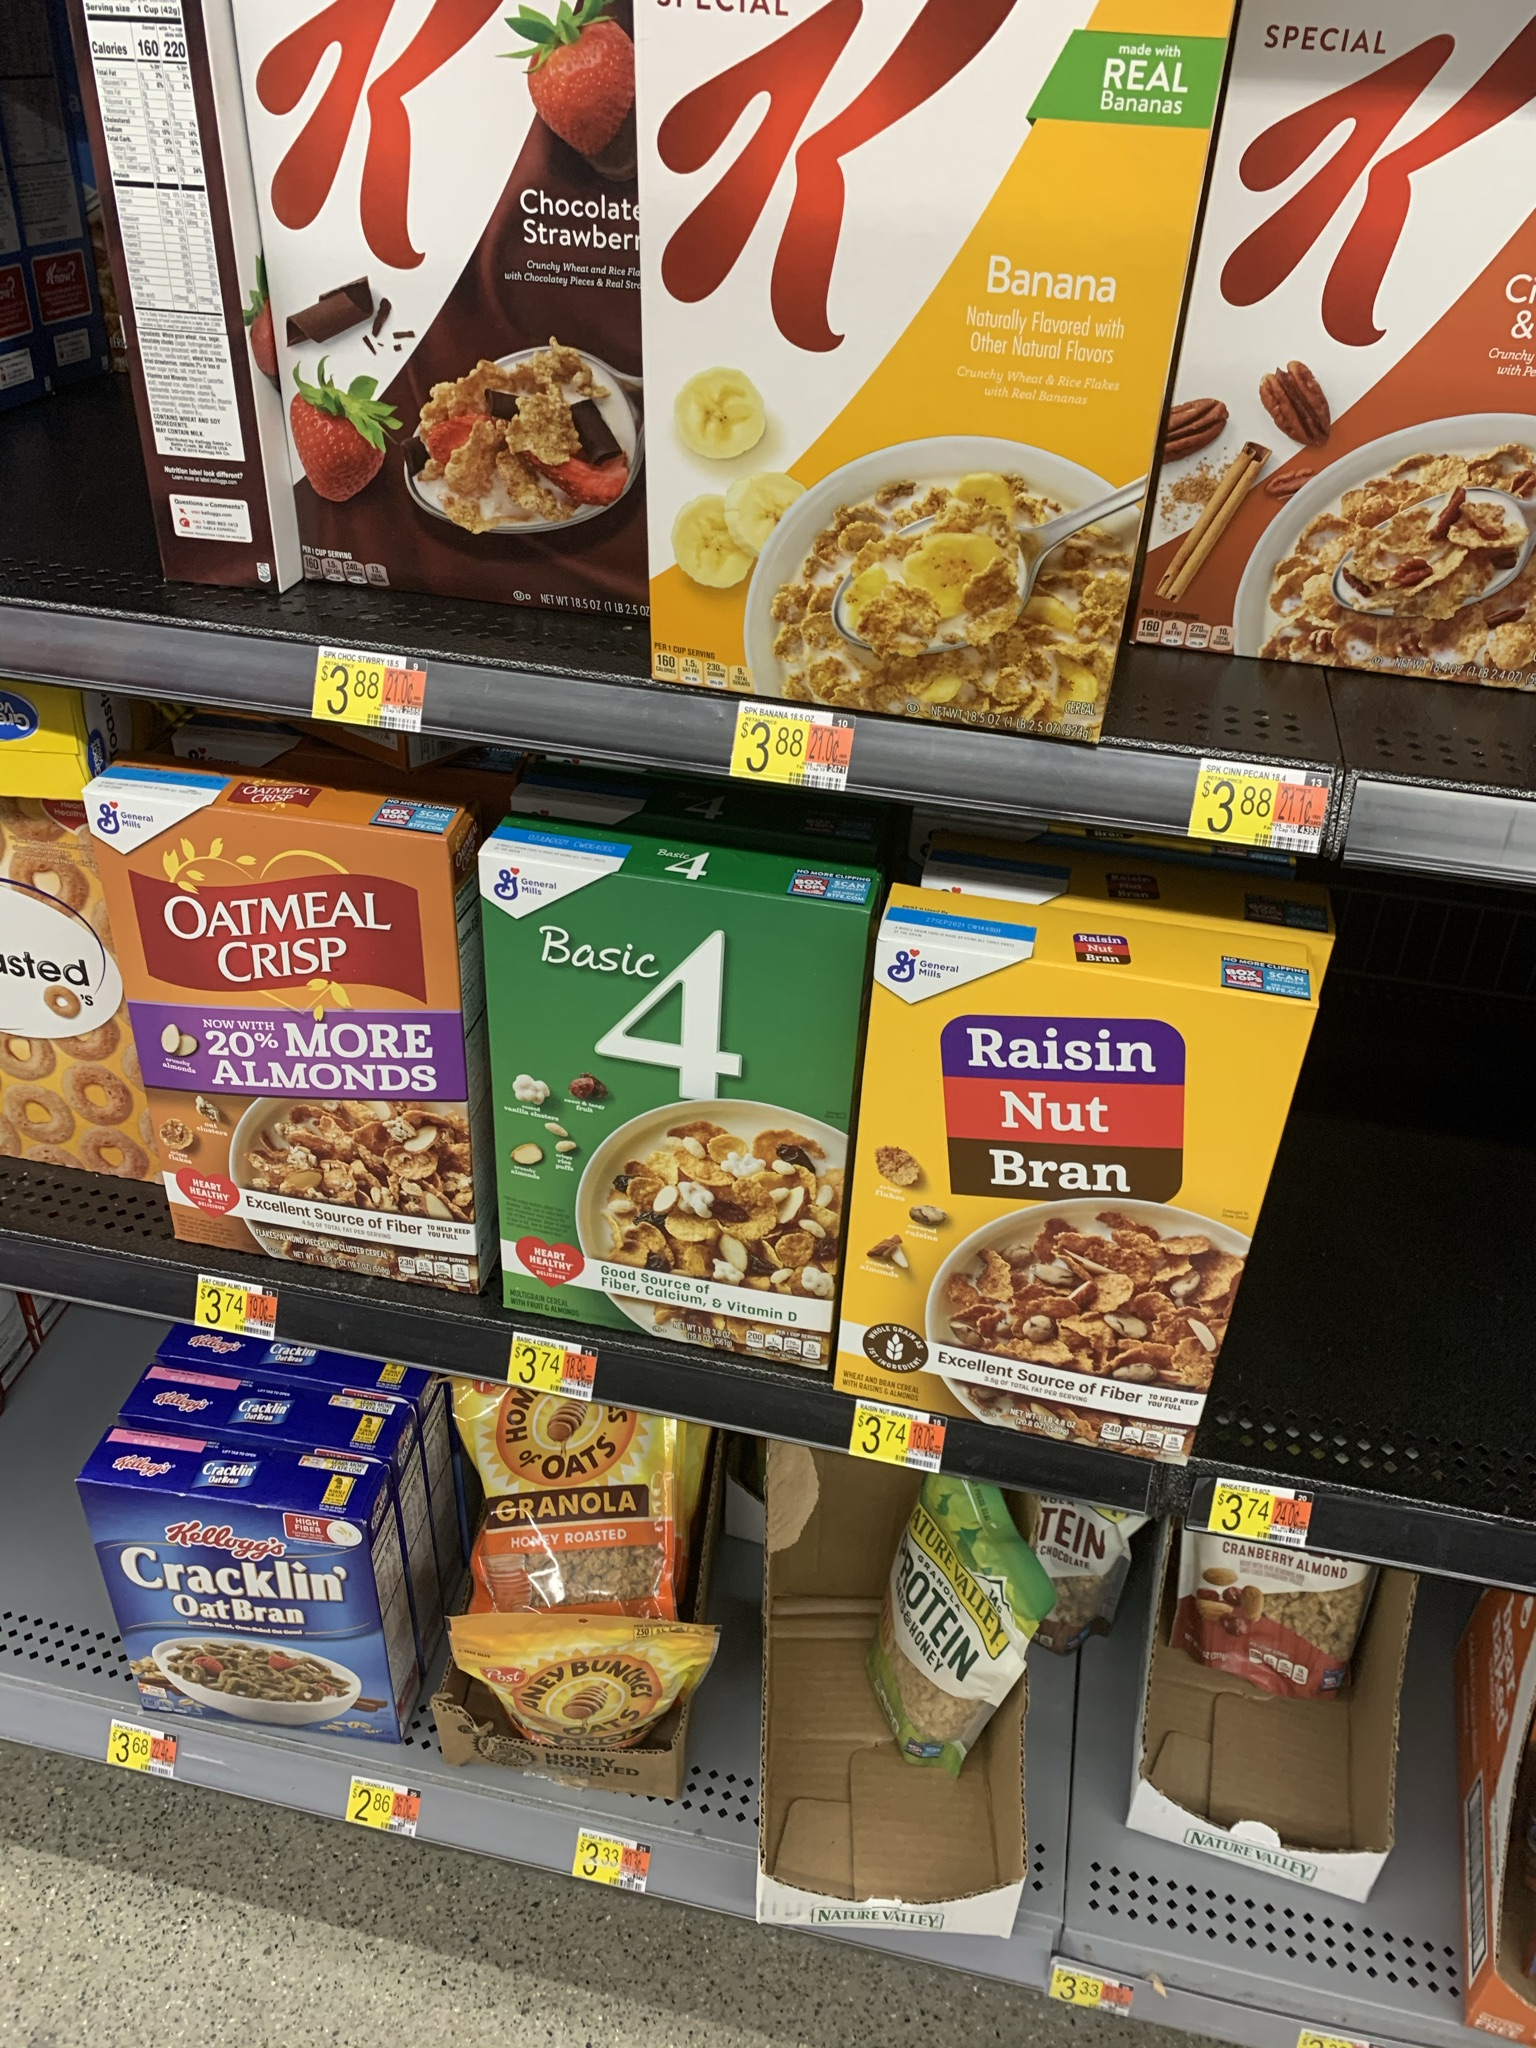box: (668, 18, 1117, 685), (290, 23, 641, 585), (1244, 35, 1536, 656), (886, 955, 1212, 1409), (486, 876, 834, 1297), (165, 832, 470, 1251), (139, 1513, 373, 1725)
